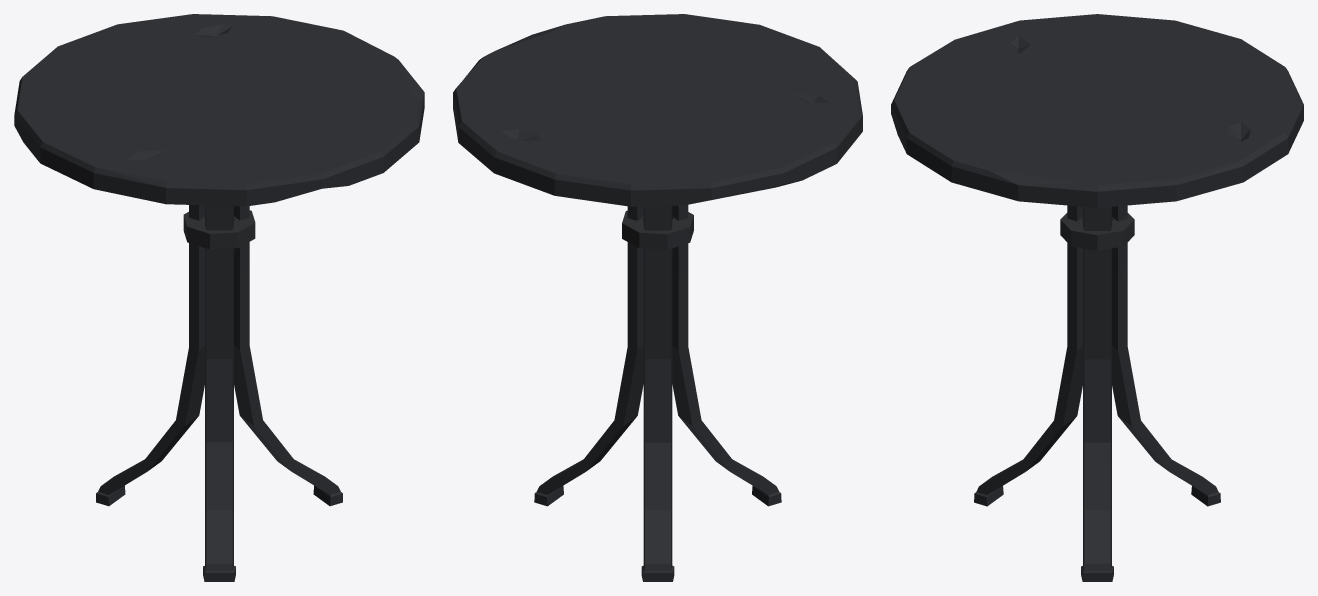
File: SM_Prop_Bar_Table_01.obj
The picture shows the model from 3 angles, left to right: view 1: azimuth 30°, elevation 25°; view 2: azimuth 150°, elevation 25°; view 3: azimuth 270°, elevation 25°; orthographic projection.
Parts seen in each view (by area): view 1: SM_Prop_Bar_Table_01_0; view 2: SM_Prop_Bar_Table_01_0; view 3: SM_Prop_Bar_Table_01_0.
Boxes of the visible parts, bbox=[...] form: SM_Prop_Bar_Table_01_0: bbox=[14, 14, 424, 581]; SM_Prop_Bar_Table_01_0: bbox=[453, 14, 862, 581]; SM_Prop_Bar_Table_01_0: bbox=[891, 14, 1303, 581].
Size of the model in its own units: 0.9634 by 1.1 by 0.9634.
1 material, 1 textured.
